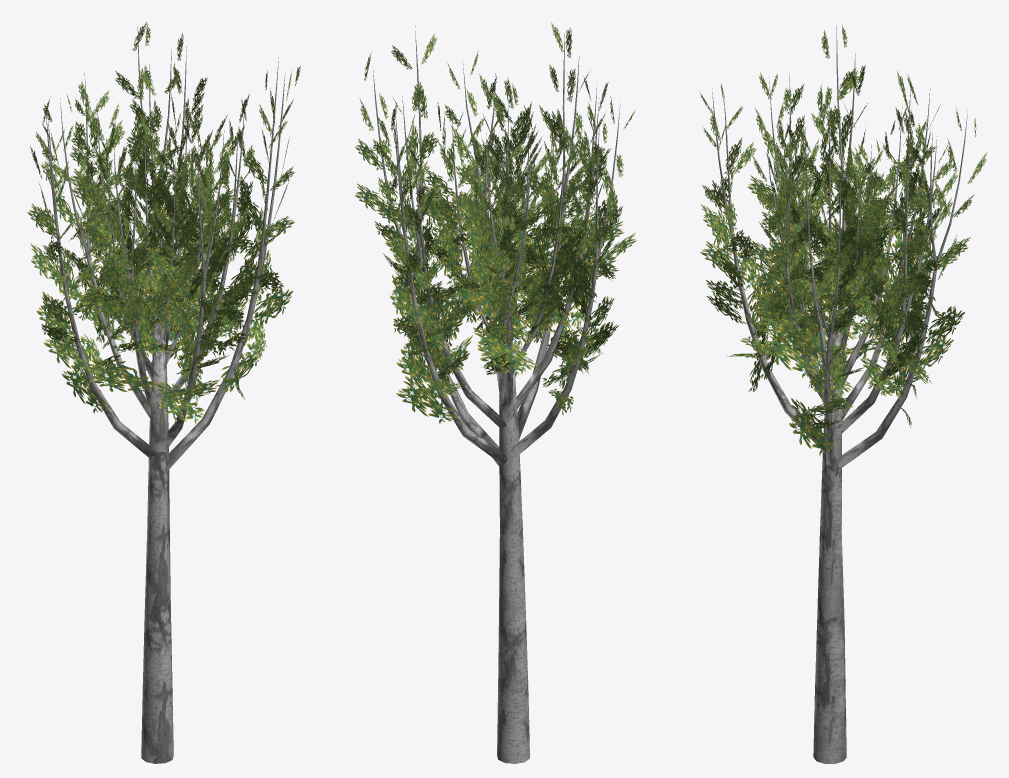
File: tree2.fbx
3 views of the same model, side by side, from view 1: azimuth 30°, elevation 25°; view 2: azimuth 150°, elevation 25°; view 3: azimuth 270°, elevation 25° (orthographic).
Parts seen in each view (by area): view 1: clump leaf_1, bark11_0; view 2: clump leaf_1, bark11_0; view 3: clump leaf_1, bark11_0.
Boxes of the visible parts, x1=… form: clump leaf_1: x1=27, y1=22, x2=300, y2=425; bark11_0: x1=45, y1=26, x2=285, y2=763; clump leaf_1: x1=354, y1=22, x2=636, y2=423; bark11_0: x1=372, y1=26, x2=620, y2=763; clump leaf_1: x1=700, y1=23, x2=986, y2=456; bark11_0: x1=712, y1=25, x2=967, y2=763.
Size of the model in its own units: 78.68 by 185 by 75.45.
